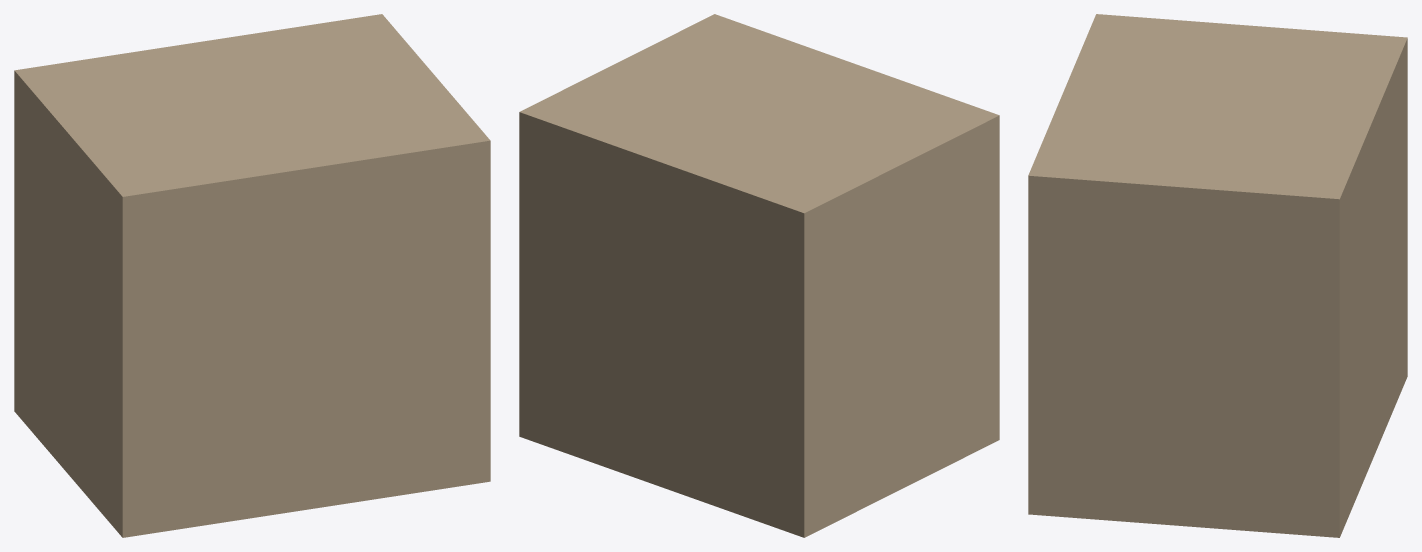
Rendered from bld_101374769.dae.
3 renders of one model, left to right at view 1: azimuth 30°, elevation 25°; view 2: azimuth 150°, elevation 25°; view 3: azimuth 270°, elevation 25°, orthographic. The views are drawn at different scales.
Visible parts, largest first — view 1: bld_101374769; view 2: bld_101374769; view 3: bld_101374769.
Boxes of the visible parts, x1,y1,x2,y2 form: bld_101374769: (14, 14, 490, 537); bld_101374769: (519, 14, 999, 537); bld_101374769: (1028, 14, 1407, 537).
Bounding box in the file's own units: 9.38 × 8.12 × 8.
